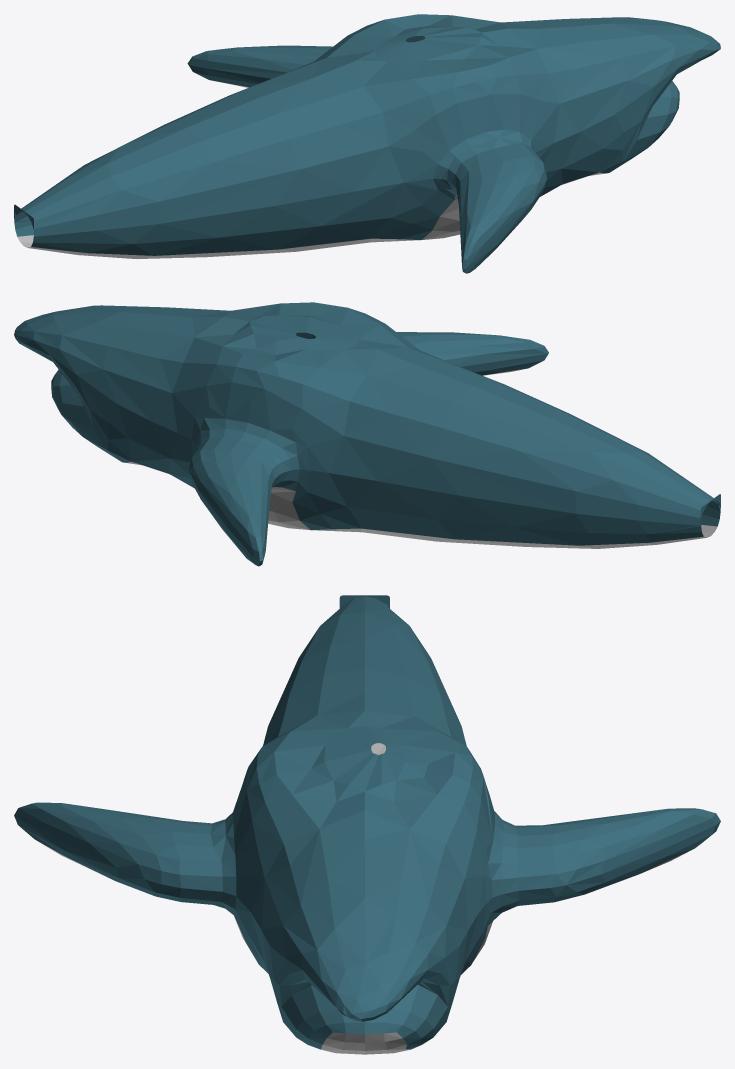
Rendered from Shark1_body_1.dae.
3 renders of one model, top to bottom at view 1: azimuth 30°, elevation 25°; view 2: azimuth 150°, elevation 25°; view 3: azimuth 270°, elevation 25°, orthographic. The views are drawn at different scales.
Parts seen in each view (by area): view 1: Shark; view 2: Shark; view 3: Shark.
Part boxes in pixels (bbox=[...]): Shark: bbox=[14, 14, 720, 273]; Shark: bbox=[14, 302, 720, 566]; Shark: bbox=[14, 595, 720, 1054].
Bounding box in the file's own units: 7.47 × 5.28 × 1.83.
